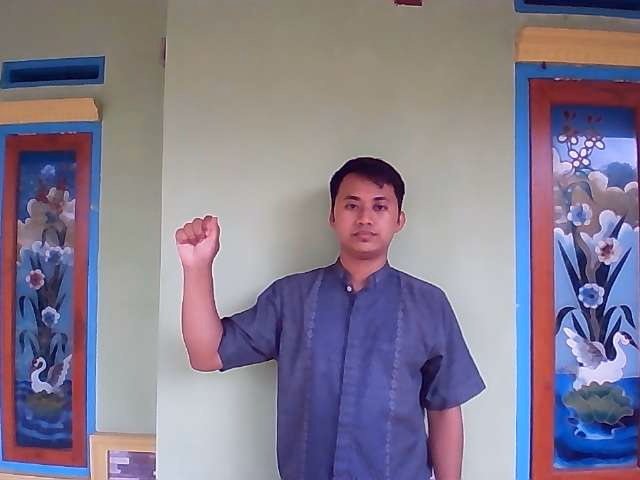A: (170, 211, 226, 280)
